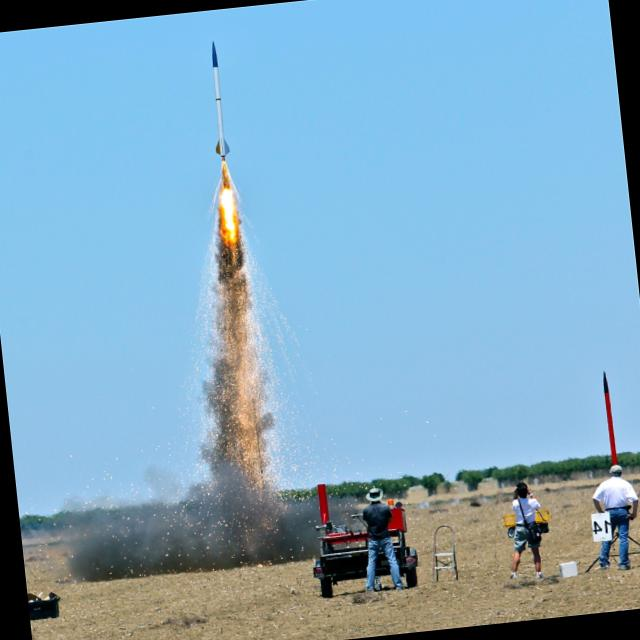rocket: (188, 30, 261, 335)
